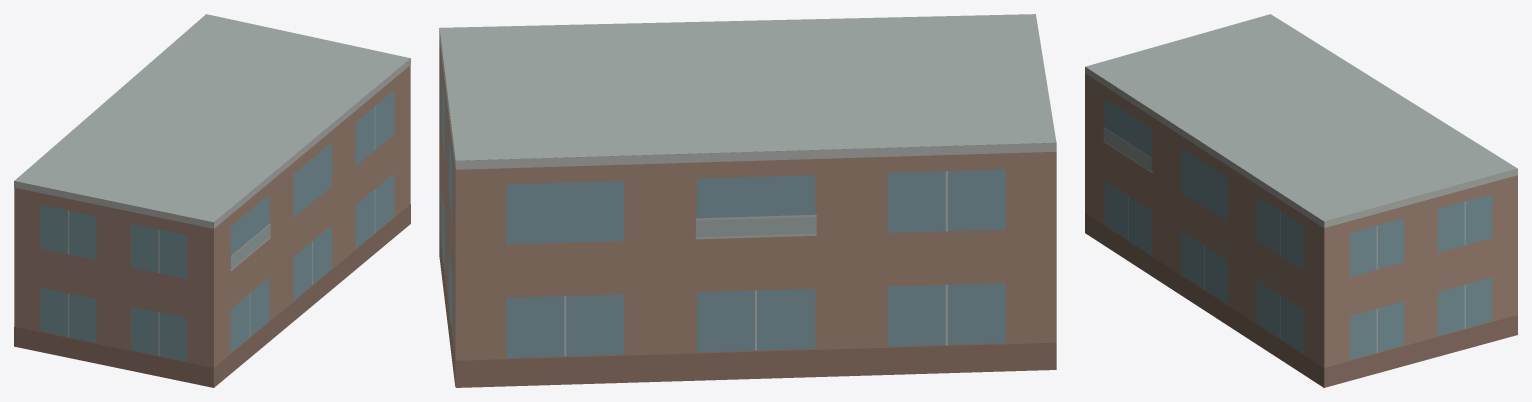
The model's file is survey-upis-32797717.glb.
3 views of the same model, side by side, from view 1: azimuth 30°, elevation 25°; view 2: azimuth 150°, elevation 25°; view 3: azimuth 270°, elevation 25° (orthographic). The views are drawn at different scales.
Visible parts, largest first — view 1: survey-upis-32797717.tmp; view 2: survey-upis-32797717.tmp; view 3: survey-upis-32797717.tmp.
Boxes of the visible parts, x1,y1,x2,y2 form: survey-upis-32797717.tmp: (14, 14, 410, 387); survey-upis-32797717.tmp: (439, 14, 1056, 387); survey-upis-32797717.tmp: (1085, 14, 1517, 387).
Bounding box in the file's own units: 16.33 × 6.1 × 14.39.
